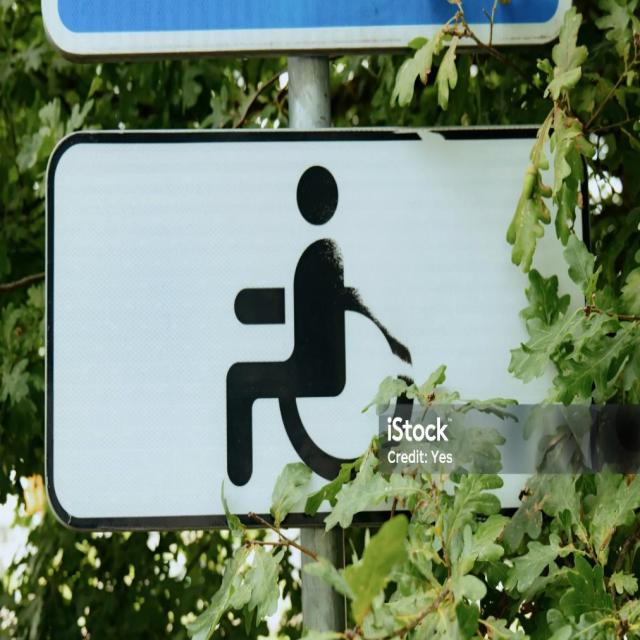symbol_of_access: (40, 118, 591, 535)
